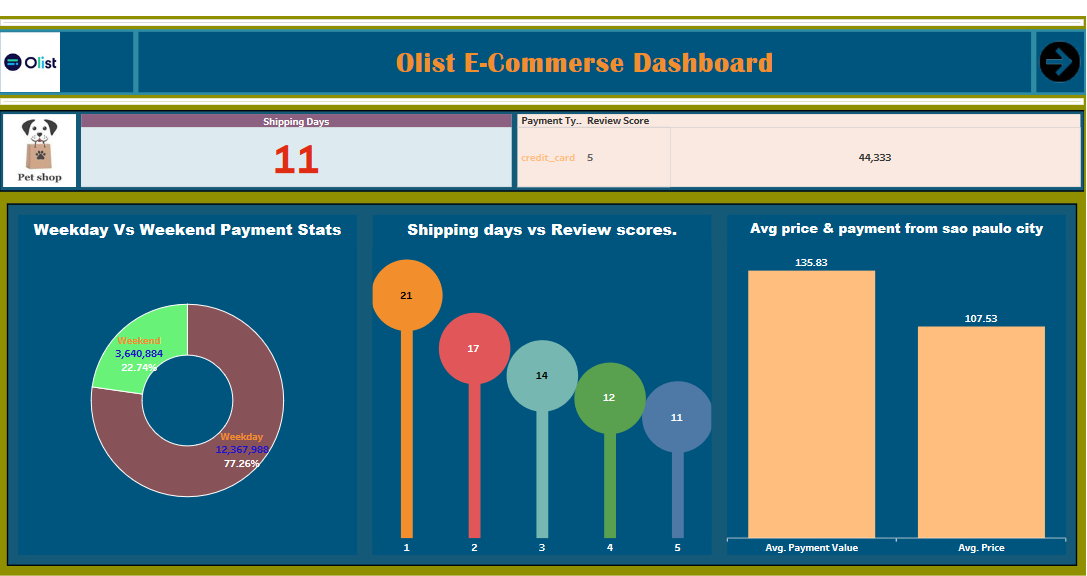

Layout of this report page (visuals, bound fields, positions):
{"tool":"tableau","page":{"name":"Master Dashboard","canvas":[1000,1000],"units":"permille","ordinal":5},"visuals":[{"type":"blank","box":[0,0,1000,23.5]},{"type":"image","param":"C:/Users/afrin/Downloads/olist.png","box":[0,23.5,127.3,117.5]},{"type":"text","box":[127.3,23.5,823.8,117.5]},{"type":"dashboard-object","box":[951.1,23.5,48.9,117.5]},{"type":"blank","box":[0,141,1000,23.5]},{"type":"image","param":"C:/Users/afrin/Downloads/pet.jpg","box":[3,170.4,71.8,141]},{"type":"worksheet","title":"KPI - 3","mark":"Automatic","rows":["product_category_name"],"box":[74.8,170.4,400.1,141]},{"type":"worksheet","title":"Sheet 21","mark":"Automatic","rows":["payment_type","review_score"],"box":[475,170.4,522,141]},{"type":"worksheet","title":"Donut-ww","mark":"Pie","rows":["Calculation_264023543316213761","Calculation_264023543316226051"],"box":[12.1,340.8,325.3,635.7]},{"type":"worksheet","title":"KPI - 5","mark":"Automatic","rows":["Calculation_450922927159508995","Calculation_450922927159508995"],"cols":["review_score"],"box":[337.4,340.8,325.3,635.7]},{"type":"worksheet","title":"KPI - 4","mark":"Automatic","box":[662.6,340.8,325.3,635.7]}]}

Visuals, with their boxes on the dashboard's canvas, which has no fixed pixel size, in thousandths of its width and height (x1, y1, x2, y2). These are canvas units, not pixel positions in the 1087x576 screenshot, which may show the page scaled, cropped or inside an application window:
blank: x1=0 y1=0 x2=1000 y2=24
image: x1=0 y1=24 x2=127 y2=141
text: x1=127 y1=24 x2=951 y2=141
dashboard-object: x1=951 y1=24 x2=1000 y2=141
blank: x1=0 y1=141 x2=1000 y2=164
image: x1=3 y1=170 x2=75 y2=311
"KPI - 3" worksheet: x1=75 y1=170 x2=475 y2=311
"Sheet 21" worksheet: x1=475 y1=170 x2=997 y2=311
"Donut-ww" worksheet (Pie marks): x1=12 y1=341 x2=337 y2=976
"KPI - 5" worksheet: x1=337 y1=341 x2=663 y2=976
"KPI - 4" worksheet: x1=663 y1=341 x2=988 y2=976
